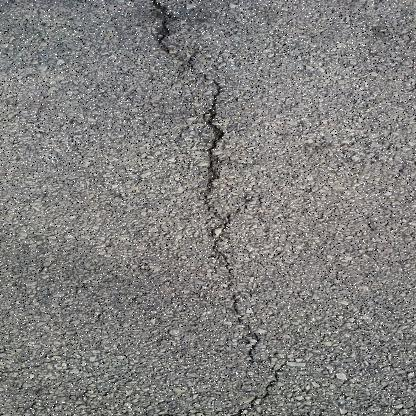Cracks: (142, 0, 267, 351)
